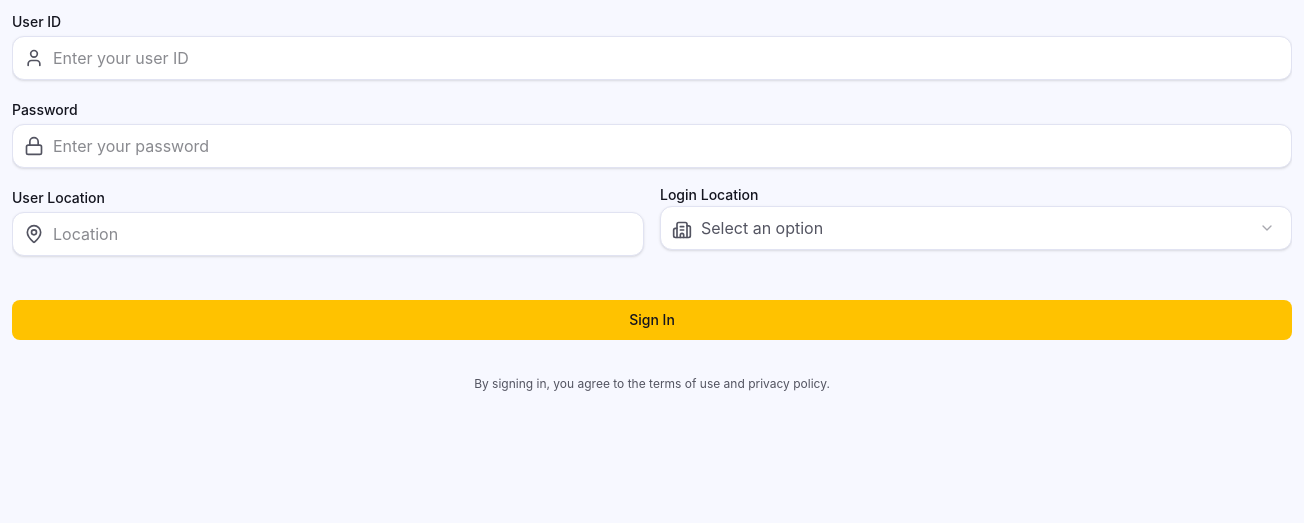
Scenario: LoginForm - Form Validation › shows validation errors when fields are empty
// Click Sign In without filling any fields
Click the button "Sign In". click: (652, 320)
box: left=12, top=300, right=1292, bottom=340
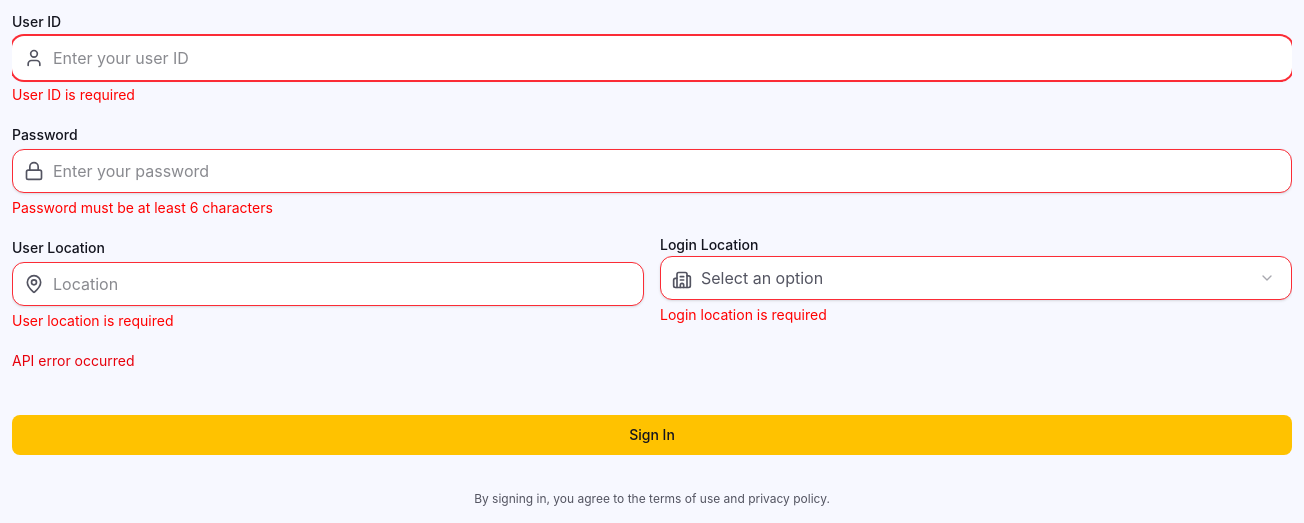
Expected: the text "User ID is required" is shown, left=12, top=86, right=135, bottom=103
Expected: the text "Password must be at least 6 characters" is shown, left=12, top=199, right=273, bottom=216
Expected: the text "User location is required" is shown, left=12, top=312, right=174, bottom=329
